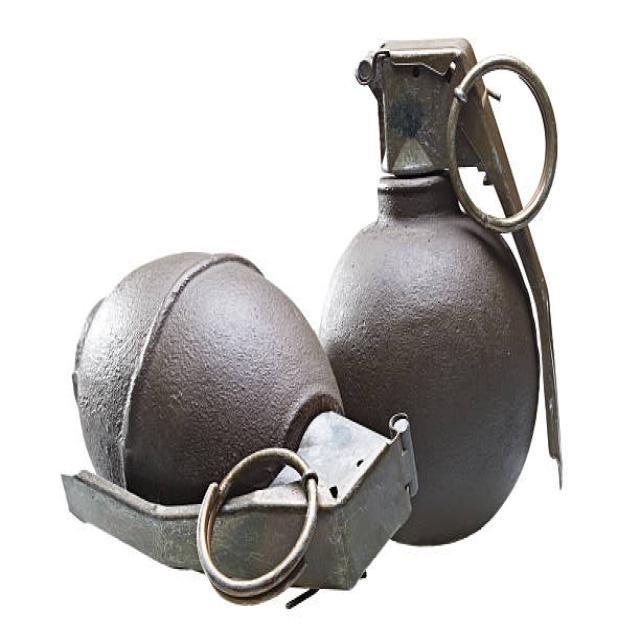grenade: (62, 247, 425, 611), (315, 38, 575, 546)
